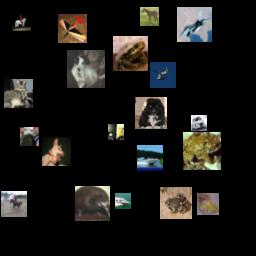airplane: (177, 7, 212, 42), (58, 14, 87, 43), (150, 62, 176, 88)
automobile: (191, 115, 207, 131)
bird: (75, 186, 110, 221)
cat: (4, 79, 33, 108), (20, 127, 39, 146)
dog: (67, 50, 105, 88), (135, 97, 167, 129), (42, 137, 71, 166), (197, 193, 219, 215)
frog: (183, 132, 221, 170), (113, 36, 148, 71), (160, 187, 192, 219)
ship: (137, 145, 163, 171), (115, 193, 131, 209)
truck: (108, 124, 124, 140)
